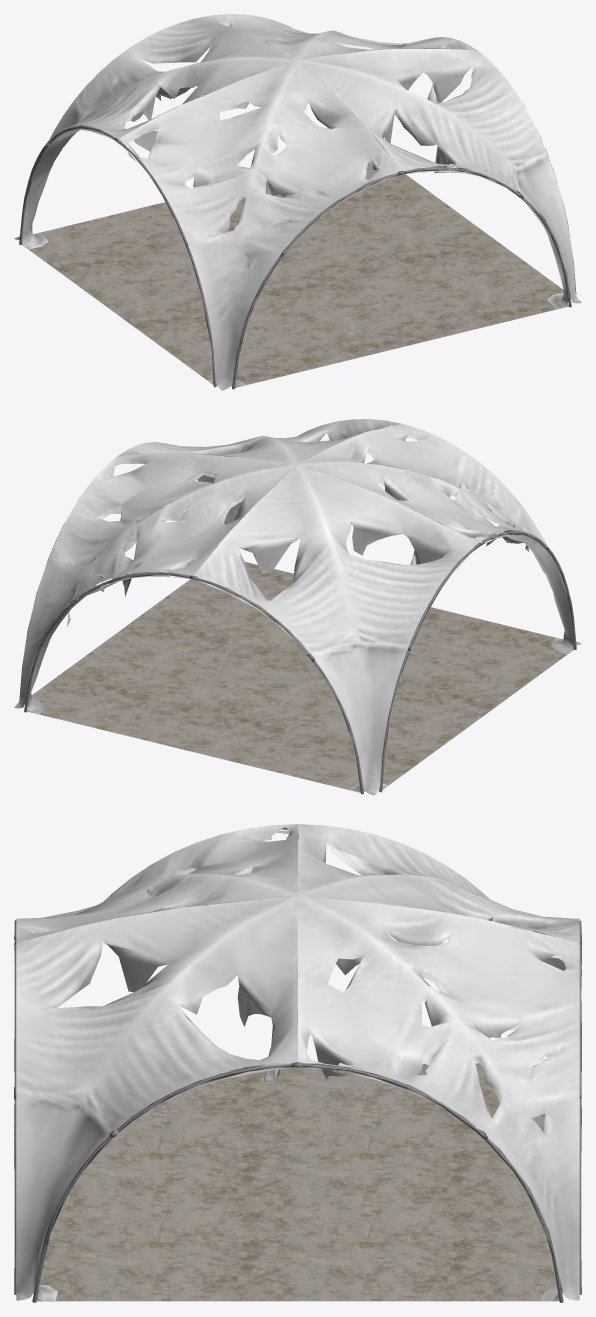
Rendered from tent_tunnel_600_junction.glb.
The picture shows the model from 3 angles, top to bottom: view 1: azimuth 30°, elevation 25°; view 2: azimuth 150°, elevation 25°; view 3: azimuth 270°, elevation 25°; orthographic projection. The views are drawn at different scales.
Visible parts, largest first — view 1: tent_tunnel_600_junction_LOD0; view 2: tent_tunnel_600_junction_LOD0; view 3: tent_tunnel_600_junction_LOD0.
Boxes of the visible parts, left/top/right/bottom form: tent_tunnel_600_junction_LOD0: left=14, top=14, right=581, bottom=390; tent_tunnel_600_junction_LOD0: left=14, top=419, right=581, bottom=795; tent_tunnel_600_junction_LOD0: left=14, top=824, right=581, bottom=1302.
Size of the model in its own units: 8.06 by 4.5 by 8.06.
Materials: 3 (3 with a texture image).
